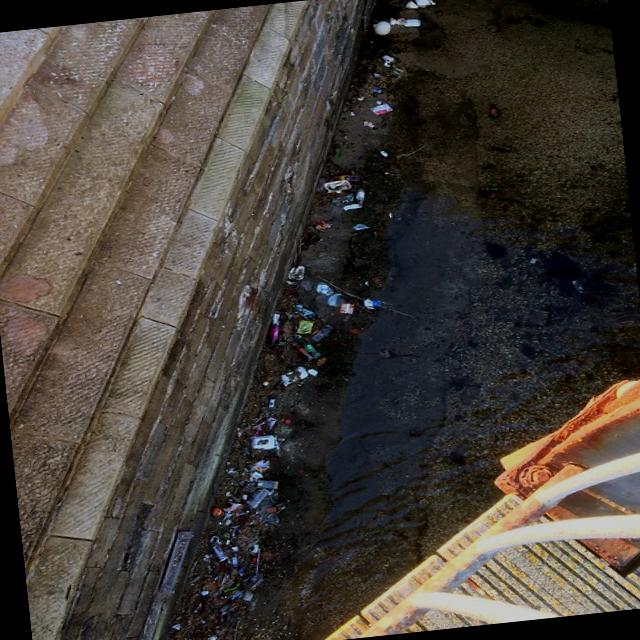Trash: (265, 149, 399, 325), (338, 0, 475, 158), (234, 290, 342, 461), (209, 453, 289, 591), (168, 587, 244, 640)
